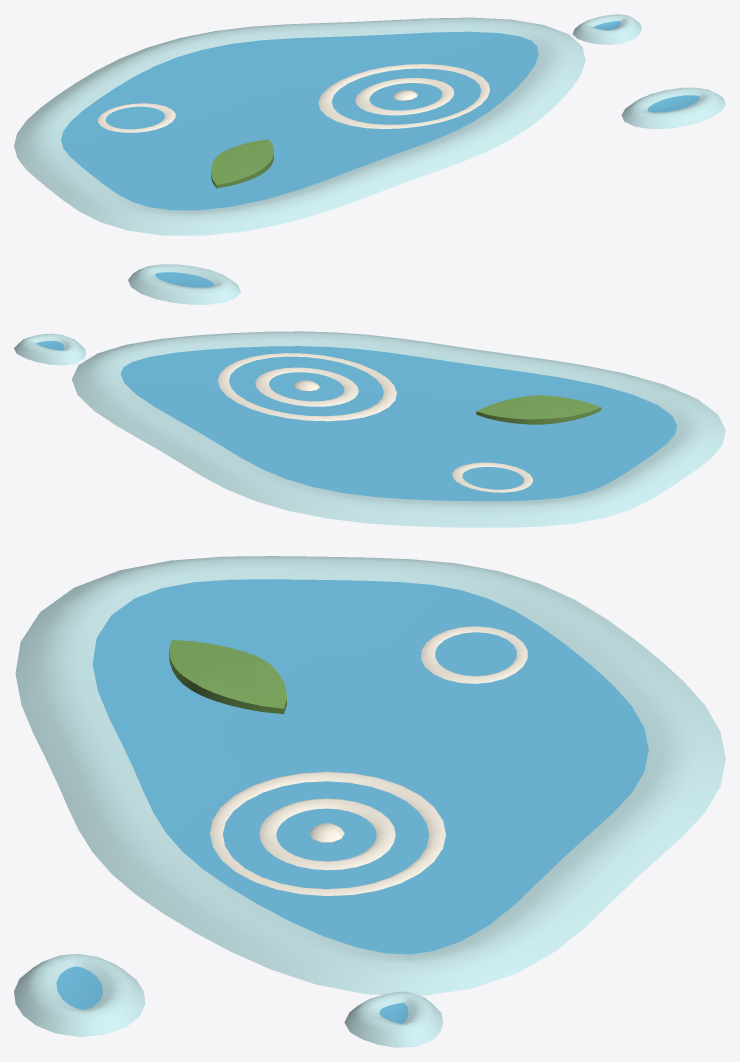
The model's file is ShopPuddle.fbx.
3 renders of one model, top to bottom at view 1: azimuth 30°, elevation 25°; view 2: azimuth 150°, elevation 25°; view 3: azimuth 270°, elevation 25°, orthographic. The views are drawn at different scales.
Visible parts, largest first — view 1: ShopPuddle; view 2: ShopPuddle; view 3: ShopPuddle.
Boxes of the visible parts, x1,y1,x2,y2 form: ShopPuddle: (14, 14, 725, 235); ShopPuddle: (14, 264, 725, 527); ShopPuddle: (14, 556, 725, 1047).
Bounding box in the file's own units: 1.18 × 0.0205 × 0.7199.
